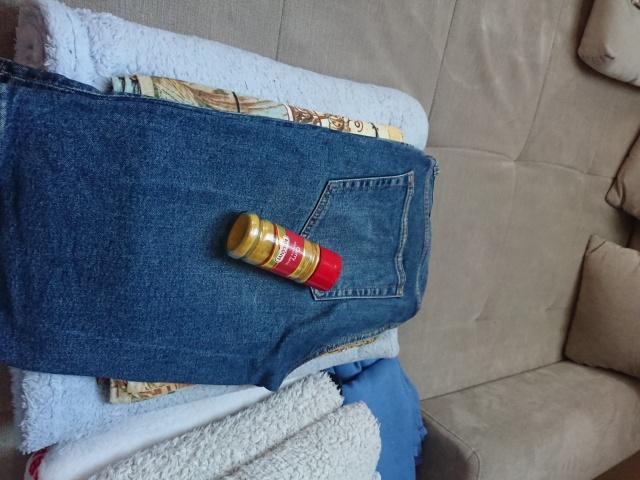Kotanyi Curry Spices Mix 70g: (224, 209, 343, 294)
